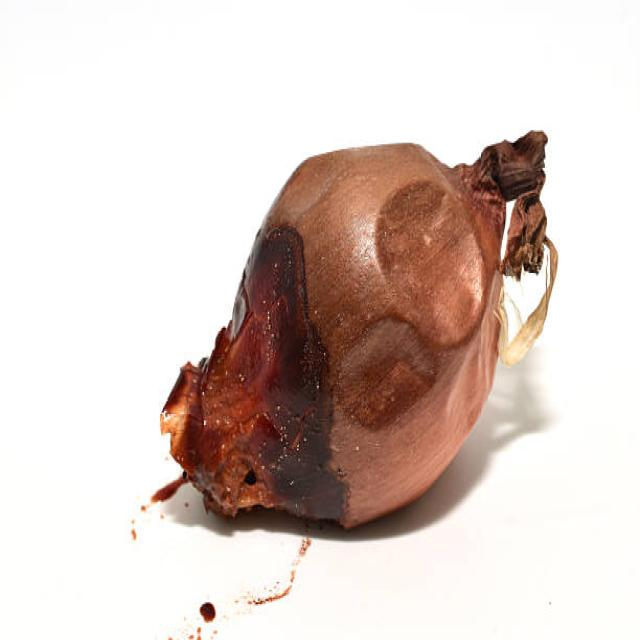rotten: (117, 11, 587, 541)
